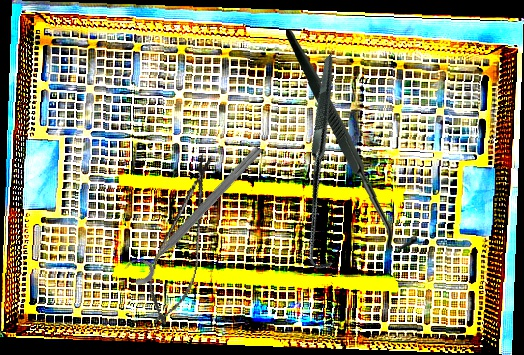Fixation Ring: (120, 134, 267, 290)
Hook Surgical: (215, 53, 438, 275), (282, 30, 421, 250)
Micro Scissor: (138, 146, 227, 333)
